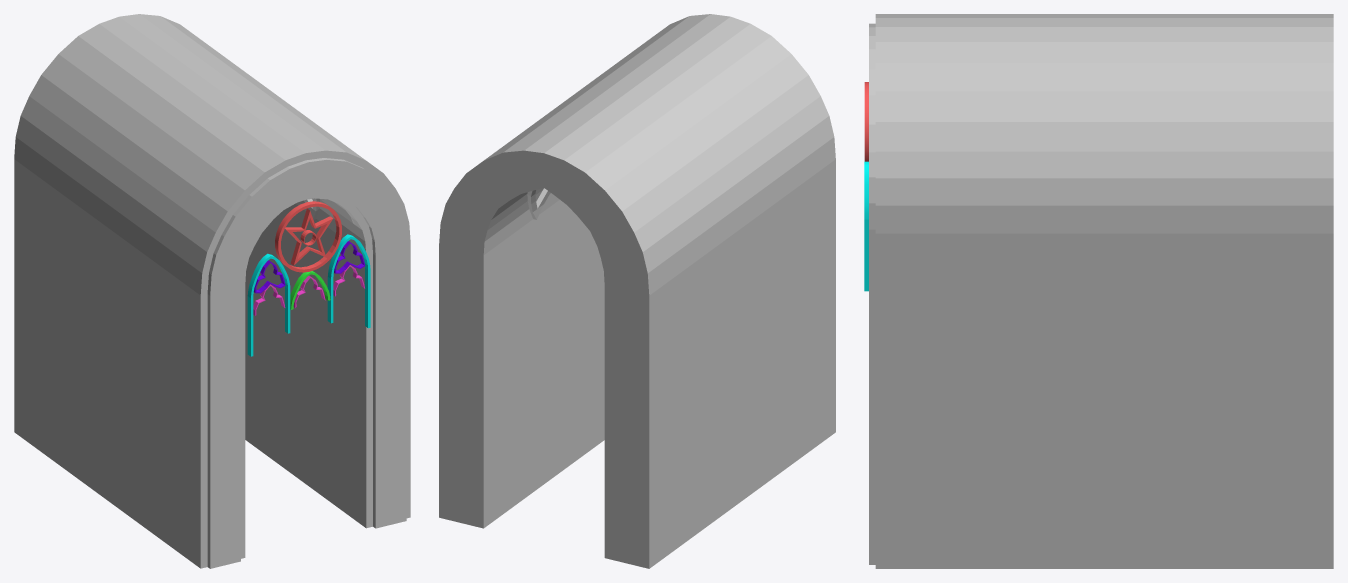
File: Dream door.fbx
3 views of the same model, side by side, from view 1: azimuth 30°, elevation 25°; view 2: azimuth 150°, elevation 25°; view 3: azimuth 270°, elevation 25° (orthographic). The views are drawn at different scales.
Parts seen in each view (by area): view 1: Box001, Cylinder005, Cylinder002, Cylinder006; view 2: Box001; view 3: Box001, Cylinder006.
Boxes of the visible parts, bbox=[...] form: Box001: bbox=[14, 14, 410, 568]; Cylinder005: bbox=[275, 201, 341, 272]; Cylinder002: bbox=[247, 253, 290, 356]; Cylinder006: bbox=[327, 234, 370, 328]; Box001: bbox=[439, 14, 835, 568]; Box001: bbox=[869, 14, 1333, 568]; Cylinder006: bbox=[864, 161, 868, 291].
Bounding box in the file's own units: 49.53 × 87.84 × 78.05.
